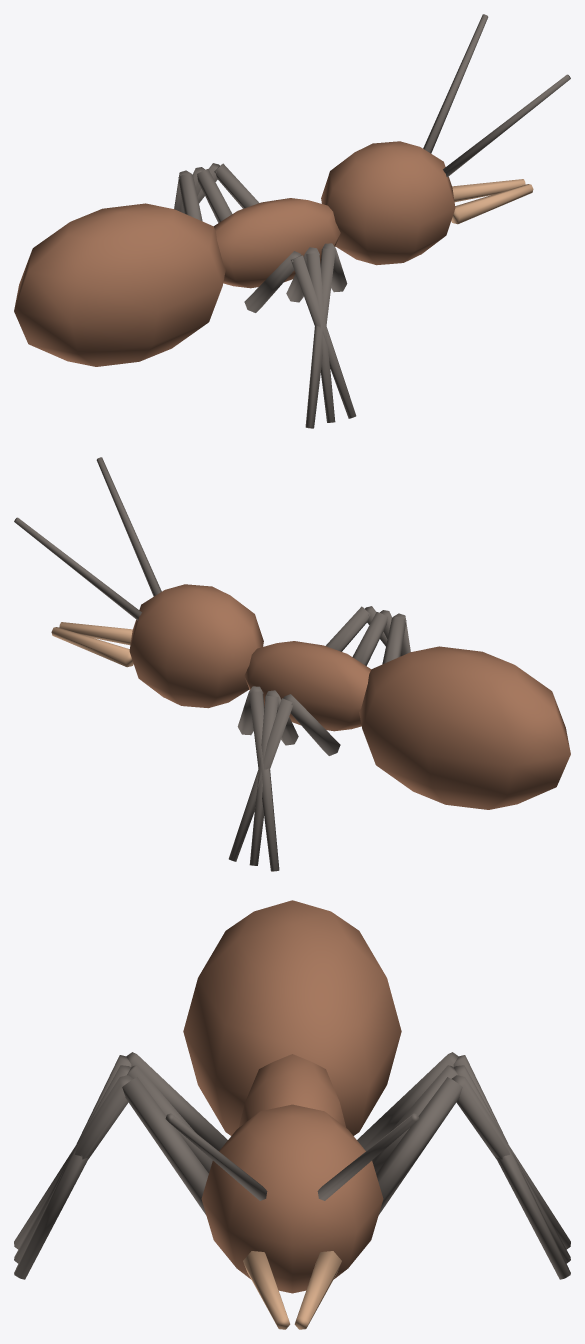
File: mountain-trap-jaw-ant.glb
3 renders of one model, top to bottom at view 1: azimuth 30°, elevation 25°; view 2: azimuth 150°, elevation 25°; view 3: azimuth 270°, elevation 25°, orthographic. The views are drawn at different scales.
Visible parts, largest first — view 1: e; view 2: e; view 3: e.
Part boxes in pixels (x1,y1,x2,y2): e: [14, 14, 570, 428]; e: [14, 457, 570, 871]; e: [14, 900, 570, 1329].
Size of the model in its own units: 0.3372 by 0.1517 by 0.2143.
